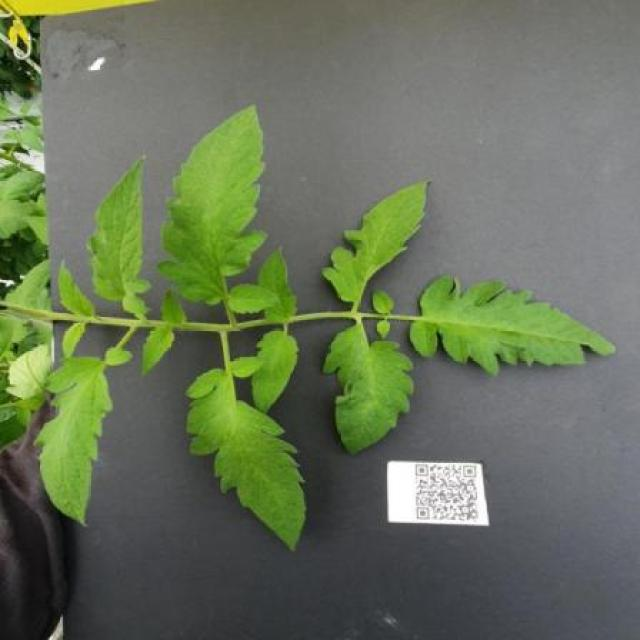Healthy: (184, 356, 307, 551), (157, 104, 267, 305), (411, 275, 616, 376), (321, 178, 432, 303), (39, 355, 114, 534), (324, 326, 414, 456), (86, 154, 151, 314), (252, 329, 299, 414)
